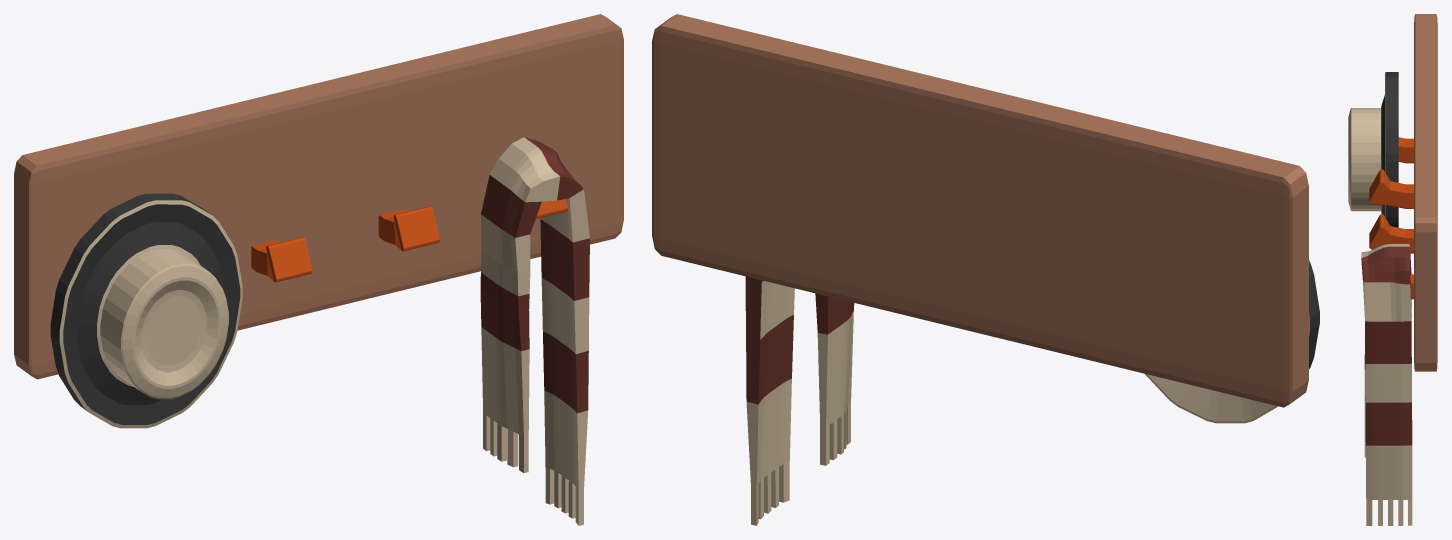
Rendered from coat_rack_entrance.fbx.
3 renders of one model, left to right at view 1: azimuth 30°, elevation 25°; view 2: azimuth 150°, elevation 25°; view 3: azimuth 270°, elevation 25°, orthographic. The views are drawn at different scales.
Parts seen in each view (by area): view 1: coat_rack_entrance, Cube.015, Cube.014, Cube.056, Cube.009; view 2: coat_rack_entrance, Cube.015, Cube.056, Cube.014; view 3: Cube.015, coat_rack_entrance, Cube.056, Cube.009, Cube.014.
Part boxes in pixels (x1,y1,x2,y2): coat_rack_entrance: [14, 14, 623, 379]; Cube.015: [59, 137, 589, 525]; Cube.014: [50, 193, 240, 424]; Cube.056: [480, 137, 589, 413]; Cube.009: [251, 199, 568, 282]; coat_rack_entrance: [652, 14, 1308, 407]; Cube.015: [746, 281, 1309, 525]; Cube.056: [745, 276, 854, 404]; Cube.014: [1309, 260, 1319, 368]; Cube.015: [1348, 72, 1412, 525]; coat_rack_entrance: [1414, 14, 1437, 371]; Cube.056: [1361, 246, 1412, 445]; Cube.009: [1369, 137, 1413, 299]; Cube.014: [1381, 72, 1398, 227].
Bounding box in the file's own units: 135 × 99.46 × 24.26.
